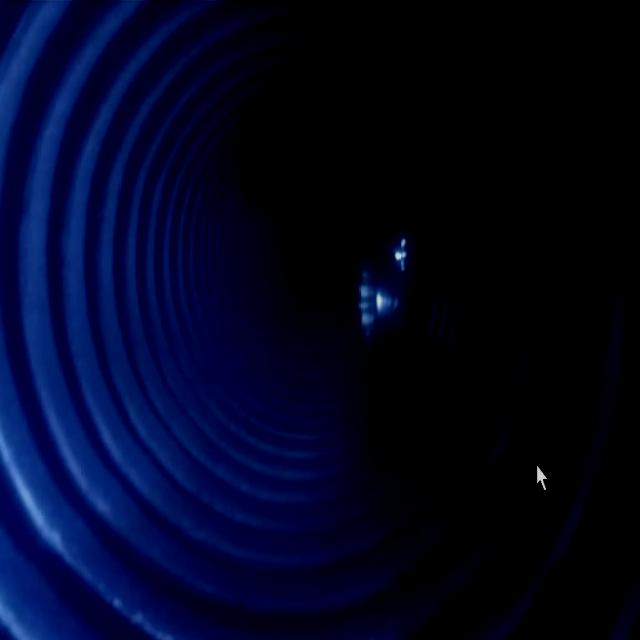metal piece: (352, 229, 419, 351)
